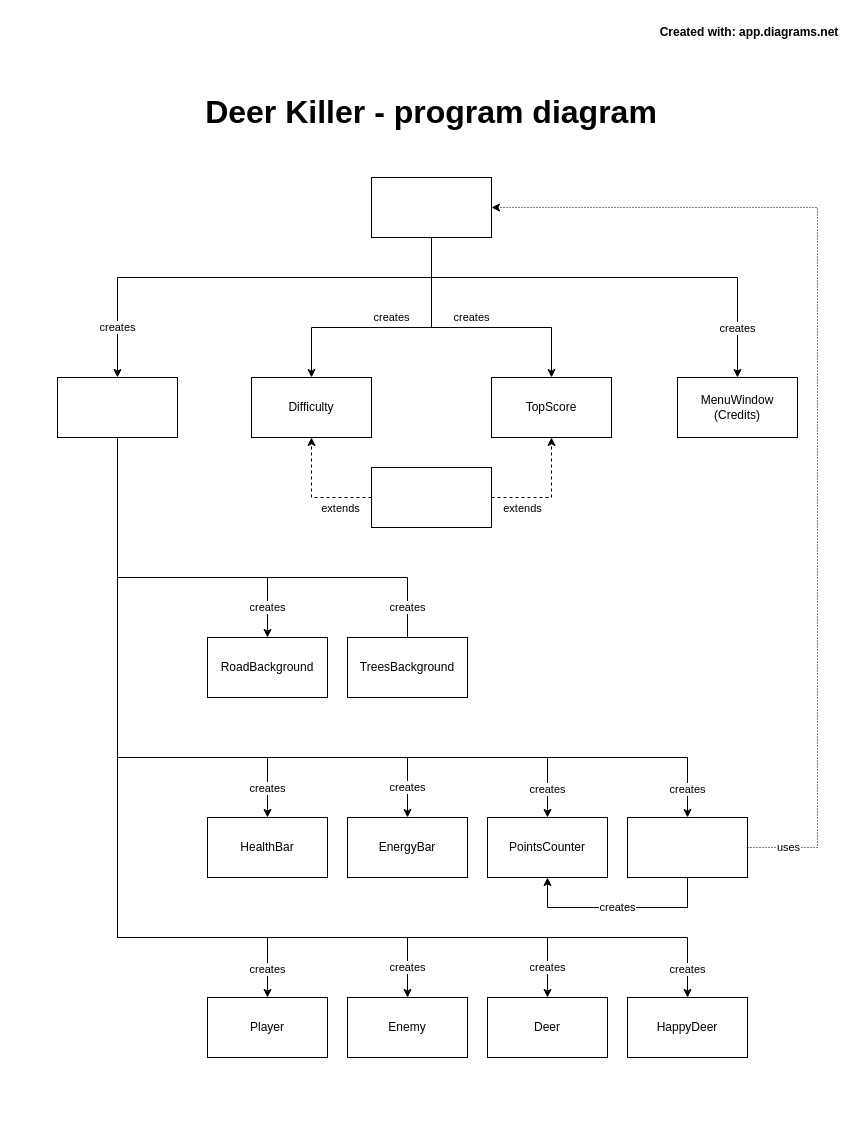
This 861x1144 diagram has some shape labels left out. Here are the shapes that lost their labels. From the top down, the centre of each, then its label:
At point (431, 207): "Menu".
At point (117, 407): "Game".
At point (431, 497): "MenuWindow".
At point (687, 847): "GameOver".
